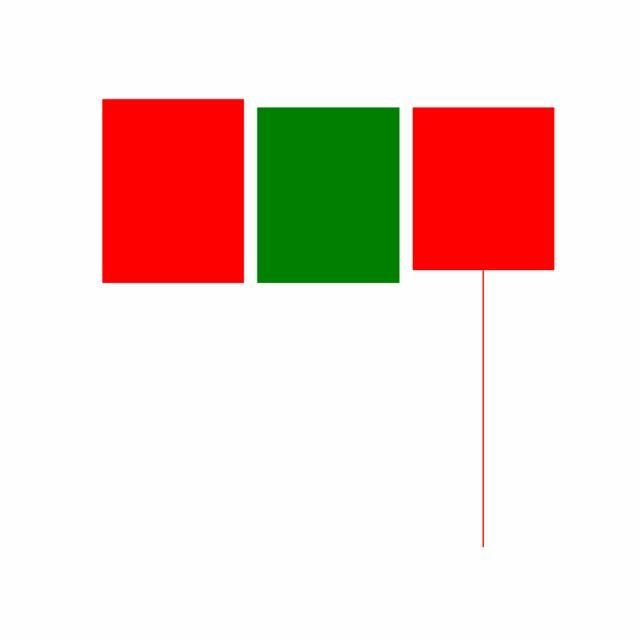Marubozu: (250, 106, 407, 285)
